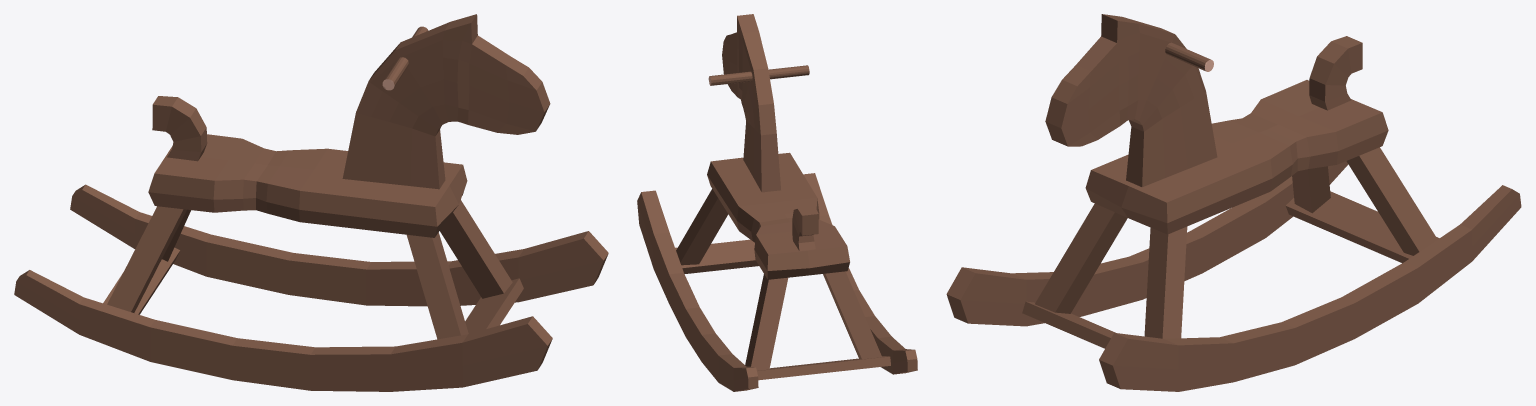
Rendered from Childrens_Room_Horse.fbx.
3 renders of one model, left to right at view 1: azimuth 30°, elevation 25°; view 2: azimuth 150°, elevation 25°; view 3: azimuth 270°, elevation 25°, orthographic. The views are drawn at different scales.
Parts seen in each view (by area): view 1: Childrens_Room_Horse; view 2: Childrens_Room_Horse; view 3: Childrens_Room_Horse.
Part boxes in pixels (x1=…): Childrens_Room_Horse: x1=14, y1=14, x2=608, y2=391; Childrens_Room_Horse: x1=637, y1=14, x2=917, y2=391; Childrens_Room_Horse: x1=946, y1=14, x2=1521, y2=391.
Size of the model in its own units: 143 by 144 by 97.99.
